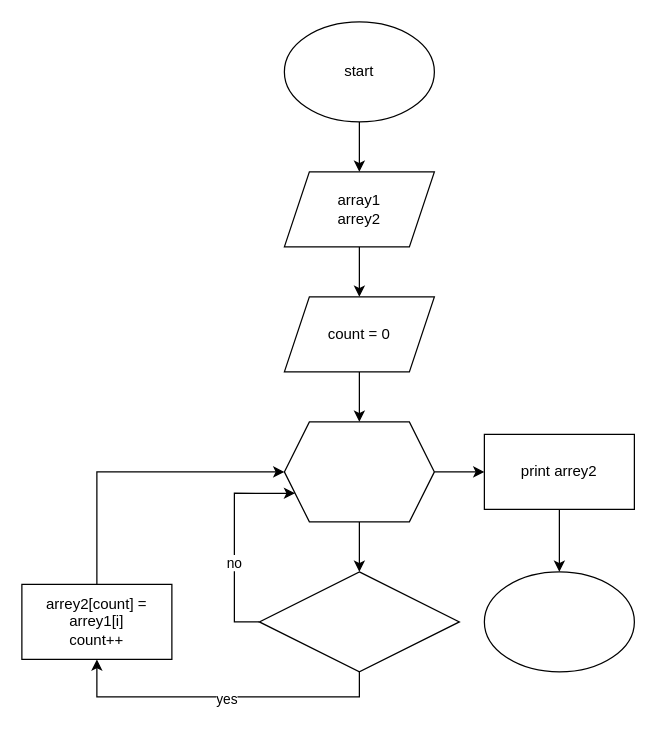
This 656x729 diagram has some shape labels left out. The shapes that lost their labels are listed below. From the top down, each one's centre as x and y in pixels, then its label:
the point at 358,471: for (i =0; i , array1.lenght; i++)
the point at 358,621: if (arrey1[i].leght <=3)
the point at 558,621: end
